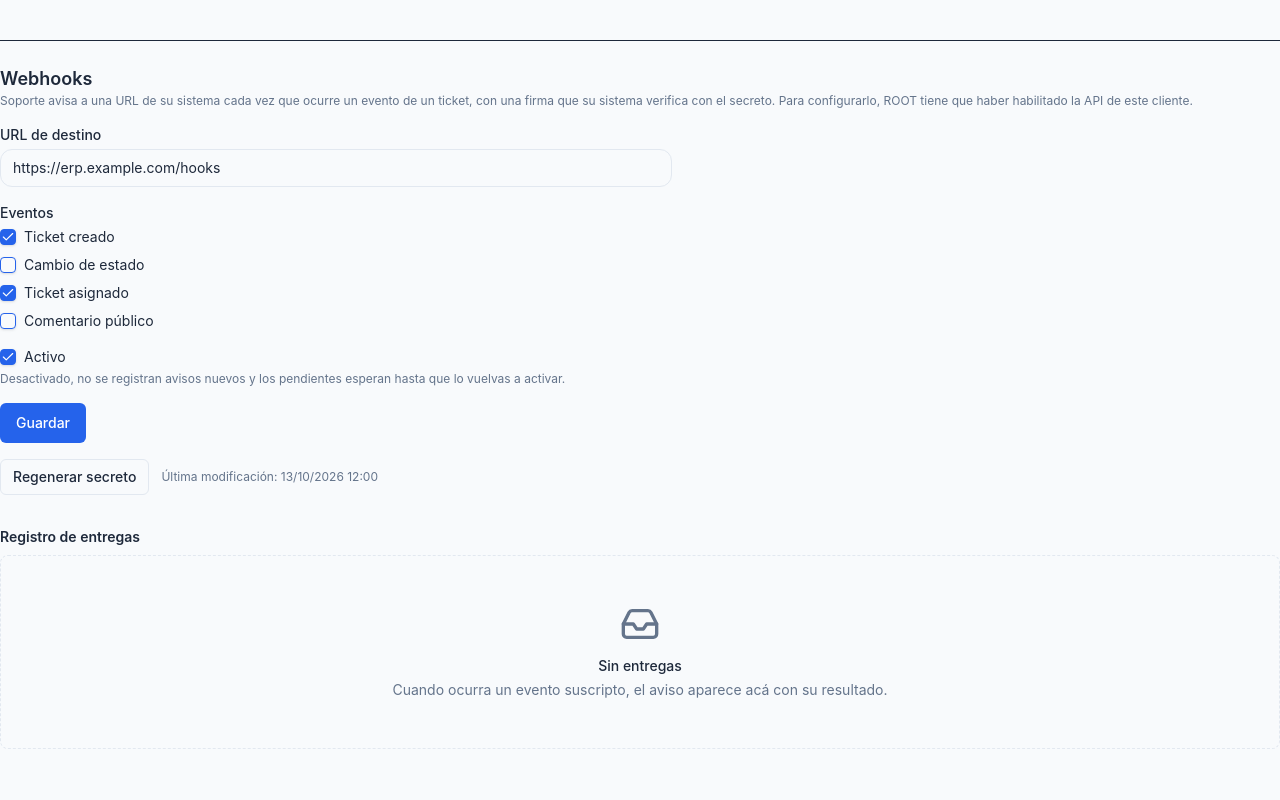
Scenario: WebhookSection › regenerar pide confirmación y muestra el secreto nuevo
Click the button "Regenerar secreto" at (75, 477), box [0, 459, 149, 495]
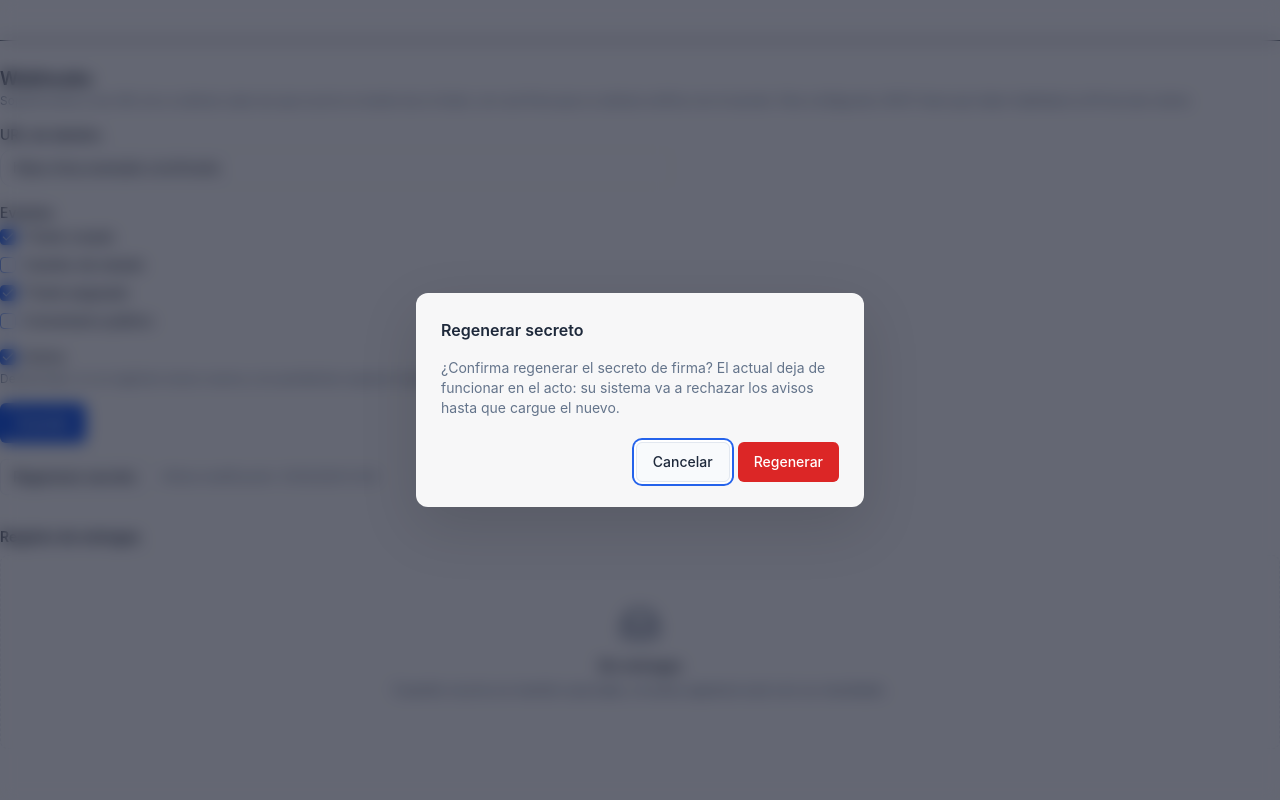
Now the text "El actual deja de funcionar en el acto" is shown, box [441, 359, 825, 416]
Click the button "Regenerar" at (788, 462), box [738, 442, 839, 482]
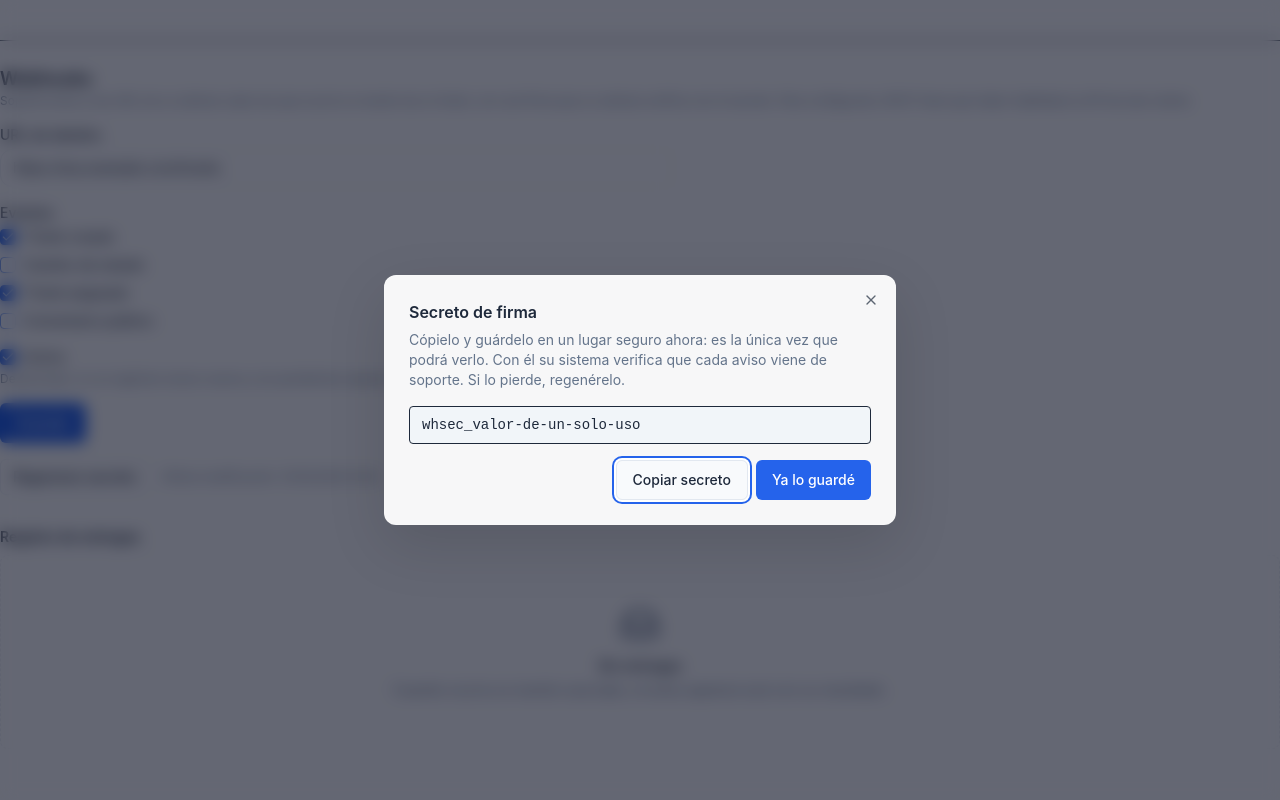
Now the text "whsec_valor-de-un-solo-uso" is shown, box [409, 406, 871, 444]
